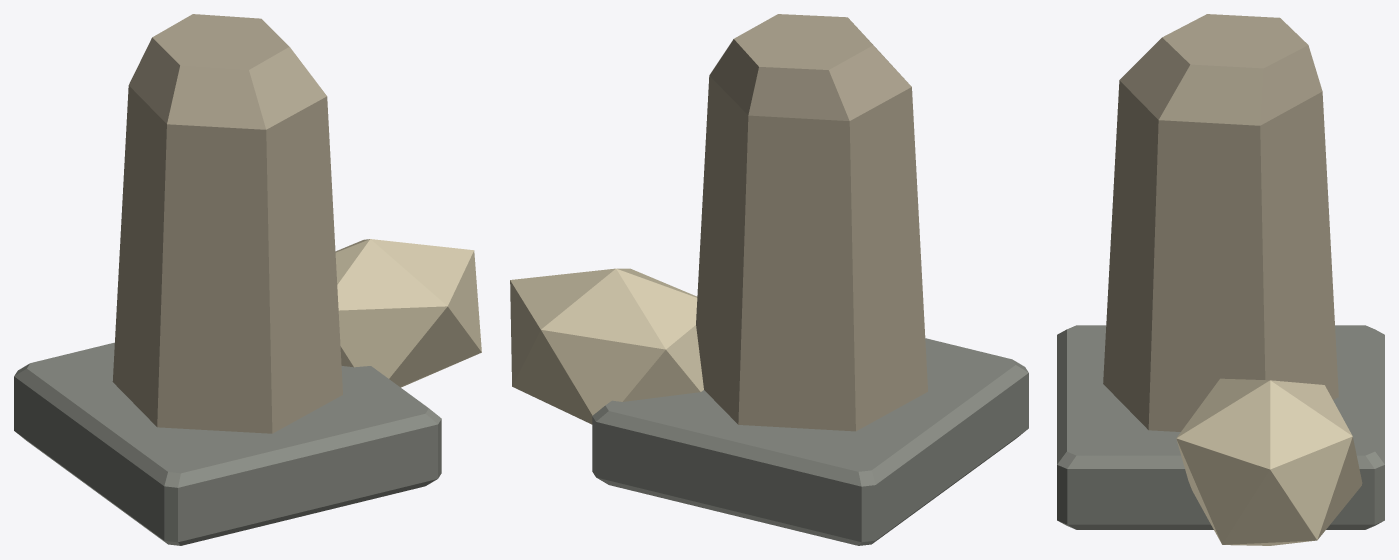
File: SM_RUI_MOD_001_BrokenPillar.glb
3 views of the same model, side by side, from view 1: azimuth 30°, elevation 25°; view 2: azimuth 150°, elevation 25°; view 3: azimuth 270°, elevation 25° (orthographic). The views are drawn at different scales.
Visible parts, largest first — view 1: SM_RUI_MOD_001_BrokenPillar; view 2: SM_RUI_MOD_001_BrokenPillar; view 3: SM_RUI_MOD_001_BrokenPillar.
Boxes of the visible parts, left/top/right/bottom form: SM_RUI_MOD_001_BrokenPillar: left=14, top=14, right=481, bottom=545; SM_RUI_MOD_001_BrokenPillar: left=510, top=14, right=1028, bottom=545; SM_RUI_MOD_001_BrokenPillar: left=1057, top=14, right=1384, bottom=545.
Size of the model in its own units: 1.18 by 1.14 by 0.8.
